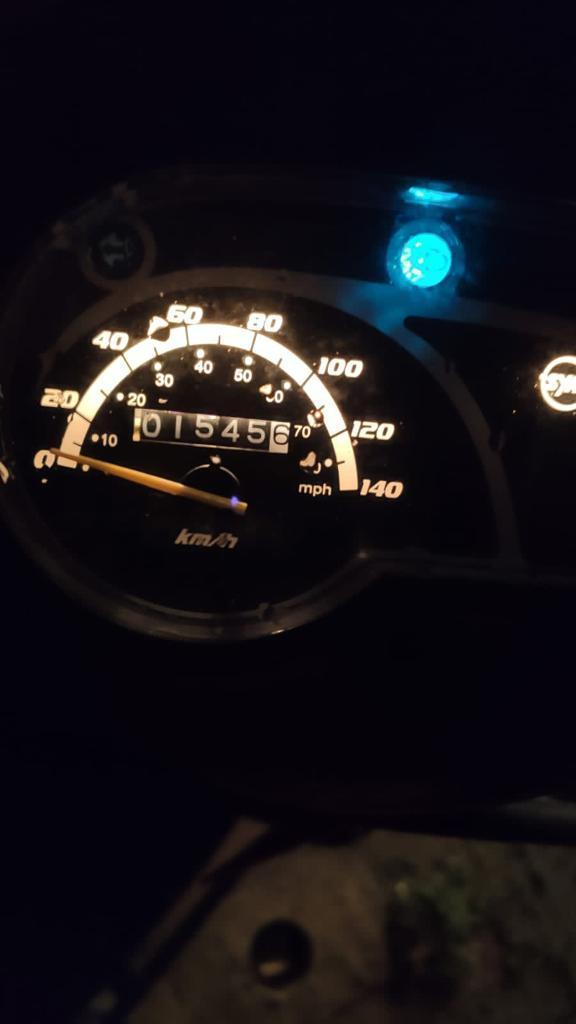0: (141, 409, 162, 439)
1: (171, 411, 184, 441)
4: (221, 418, 242, 442)
5: (194, 412, 217, 439), (247, 415, 266, 443)
6: (273, 419, 288, 446)
odometer: (130, 407, 292, 456)
